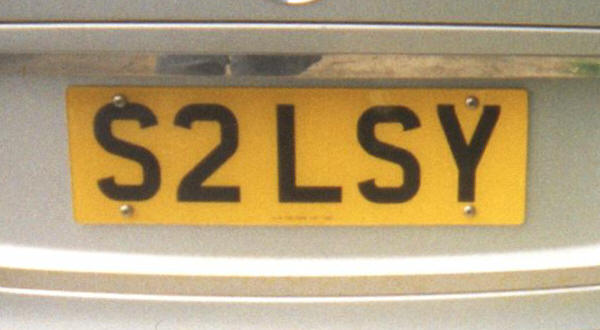license_plate: (65, 85, 529, 225)
